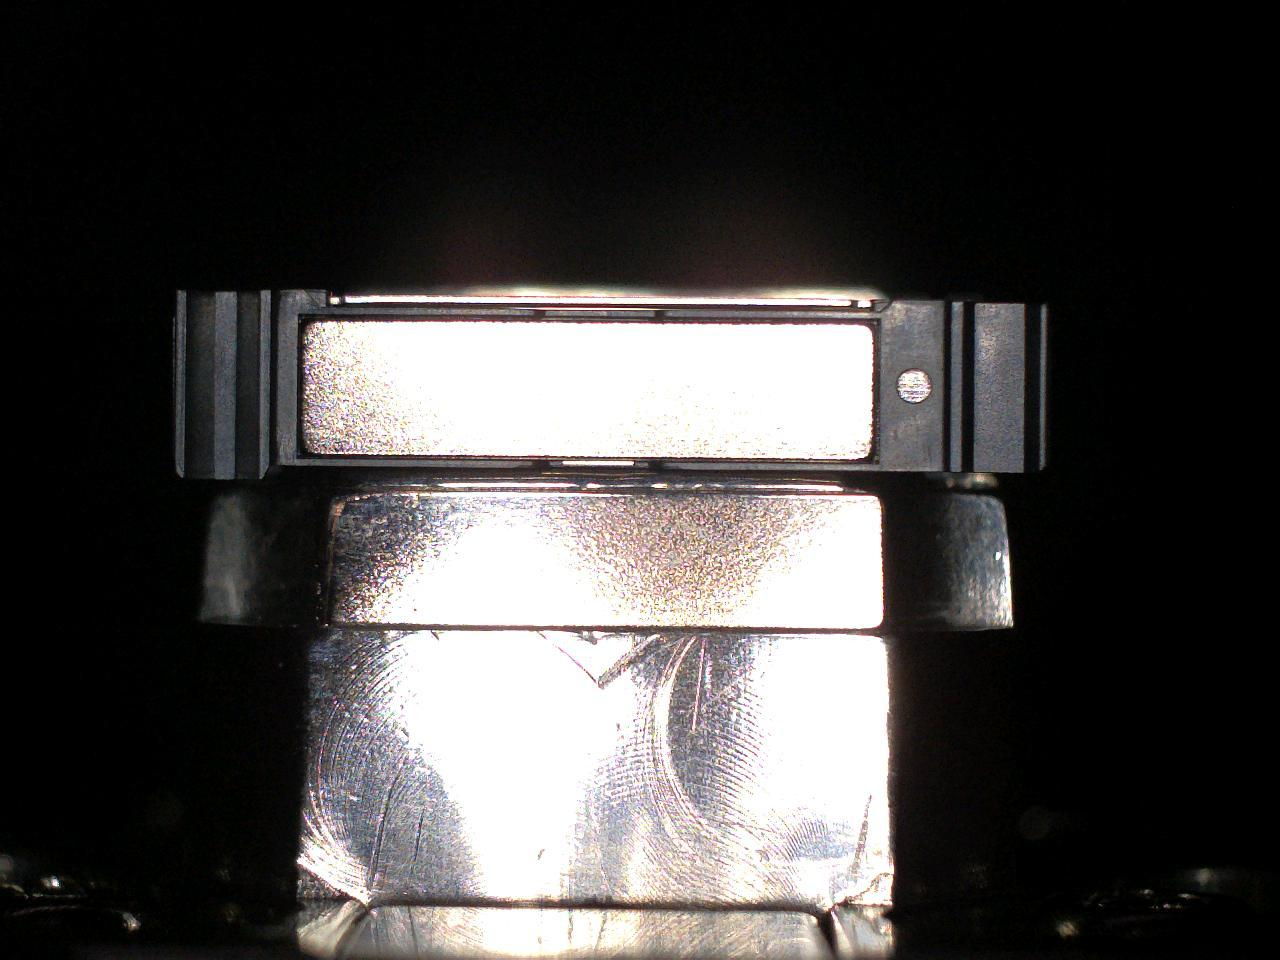frame: (174, 289, 1048, 481)
gap: (663, 317, 876, 327), (298, 454, 533, 463), (299, 315, 535, 322), (658, 457, 872, 464), (542, 317, 657, 326), (549, 456, 653, 462)
magnetic: (300, 322, 874, 459)
